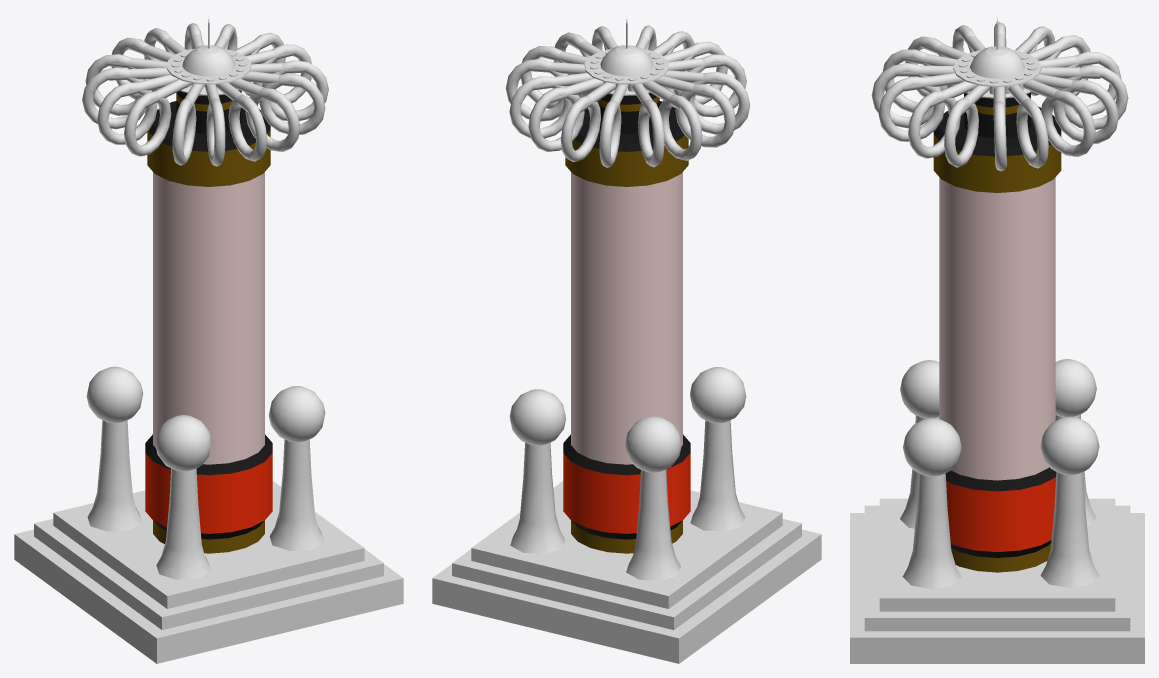
File: EMP v-slice.FBX
The picture shows the model from 3 angles, left to right: view 1: azimuth 30°, elevation 25°; view 2: azimuth 150°, elevation 25°; view 3: azimuth 270°, elevation 25°; orthographic projection. The views are drawn at different scales.
Parts seen in each view (by area): view 1: Cylinder001, Box001, Cylinder005, Cylinder002, Cylinder004, Sphere001, Circle023, Circle007, Circle022, Circle005, Circle016, Circle021 (+8 smaller); view 2: Cylinder001, Box001, Cylinder005, Cylinder003, Cylinder002, Sphere001, Circle022, Circle018, Circle021, Circle009, Circle013, Circle023 (+8 smaller); view 3: Cylinder001, Box001, Cylinder003, Cylinder004, Sphere001, Cylinder002, Cylinder005, Circle009, Circle016, Circle013, Circle011, Circle007 (+10 smaller).
Part boxes in pixels (x1,y1,x2,y2): Cylinder001: (145,90,272,553); Box001: (14,481,403,663); Cylinder005: (86,366,143,531); Cylinder002: (155,415,211,579); Cylinder004: (269,386,325,550); Sphere001: (166,16,251,95); Circle023: (124,79,192,156); Circle007: (242,71,325,134); Circle022: (97,74,177,144); Circle005: (216,82,267,161); Circle016: (229,78,299,151); Circle021: (82,67,170,129); Cylinder001: (563,93,690,553); Box001: (432,481,821,663); Cylinder005: (625,416,681,580); Cylinder003: (509,389,565,553); Cylinder002: (690,367,746,531); Sphere001: (584,16,669,95); Circle022: (653,76,735,147); Circle018: (560,82,615,161); Circle021: (642,81,702,160); Circle009: (509,72,592,138); Circle013: (528,78,603,151); Circle023: (664,70,750,134); Cylinder001: (933,92,1061,572); Box001: (850,498,1144,663); Cylinder003: (1040,416,1099,587); Cylinder004: (902,418,961,589); Sphere001: (953,14,1041,98); Cylinder002: (900,360,939,528); Cylinder005: (1055,359,1096,526); Circle009: (1023,79,1095,156); Circle016: (878,73,964,141); Circle013: (1033,74,1118,143); Circle011: (944,85,989,167); Circle007: (908,81,976,158).
Bounding box in the file's own units: 50 × 110 × 50.
